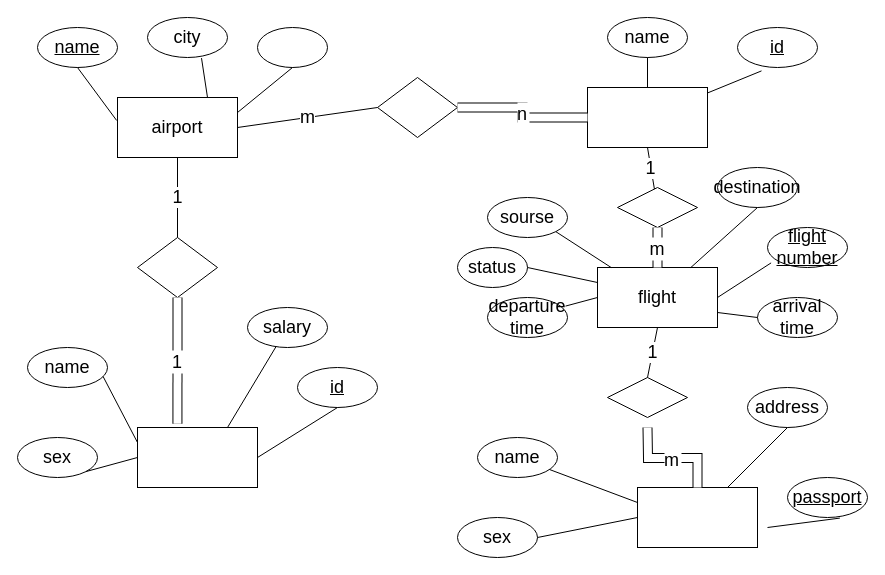
This 885x575 diagram has some shape labels left out. The box of each missing label's shape, as (x1, y1, x2, y2) in pixels:
airline: (586, 86, 708, 148)
carries: (606, 376, 688, 418)
contain: (376, 76, 458, 138)
has: (616, 186, 698, 228)
manage: (136, 236, 218, 298)
manager: (136, 426, 258, 488)
passanger: (636, 486, 758, 548)
state: (256, 26, 328, 68)
